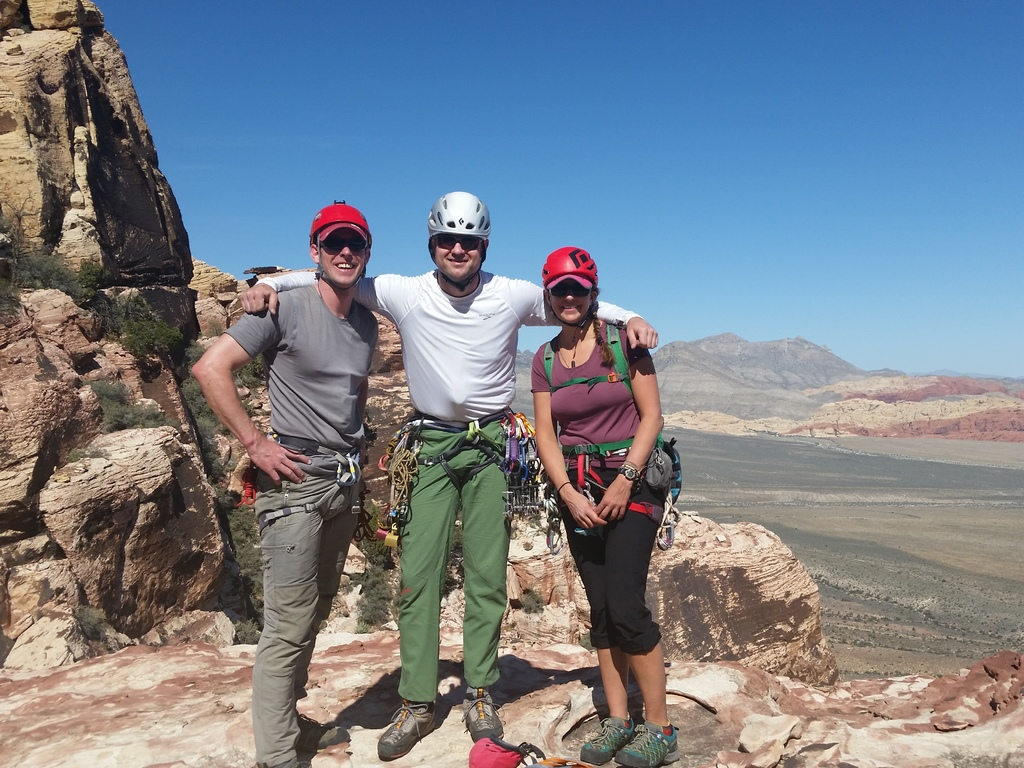Footwear: (374, 694, 446, 758), (575, 714, 630, 767), (614, 722, 677, 767), (459, 684, 506, 742), (298, 710, 349, 754)
